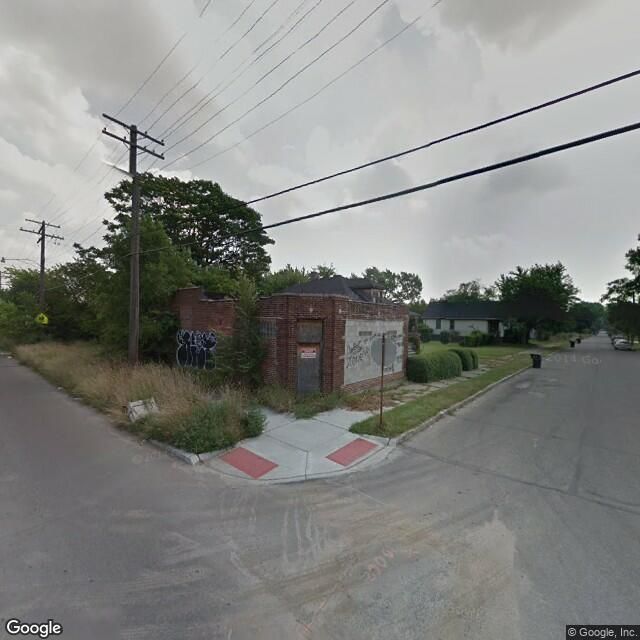litter: (124, 395, 163, 423), (55, 383, 67, 394), (7, 354, 11, 360)
